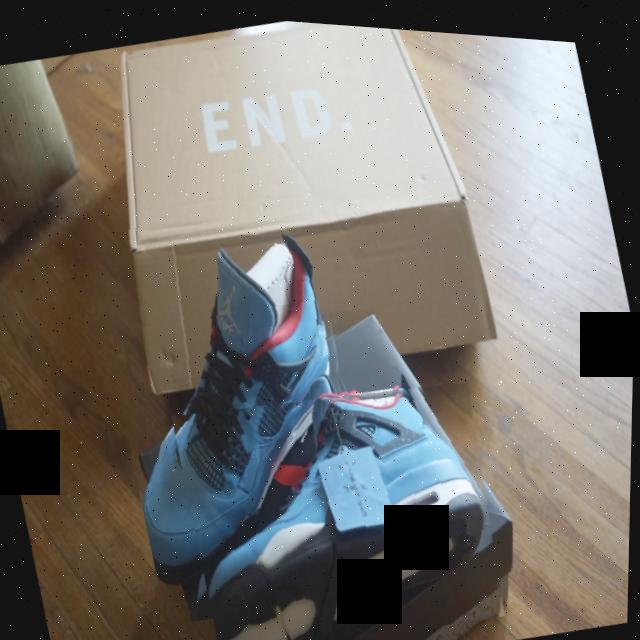shoe: (79, 172, 406, 636), (169, 345, 522, 640)
